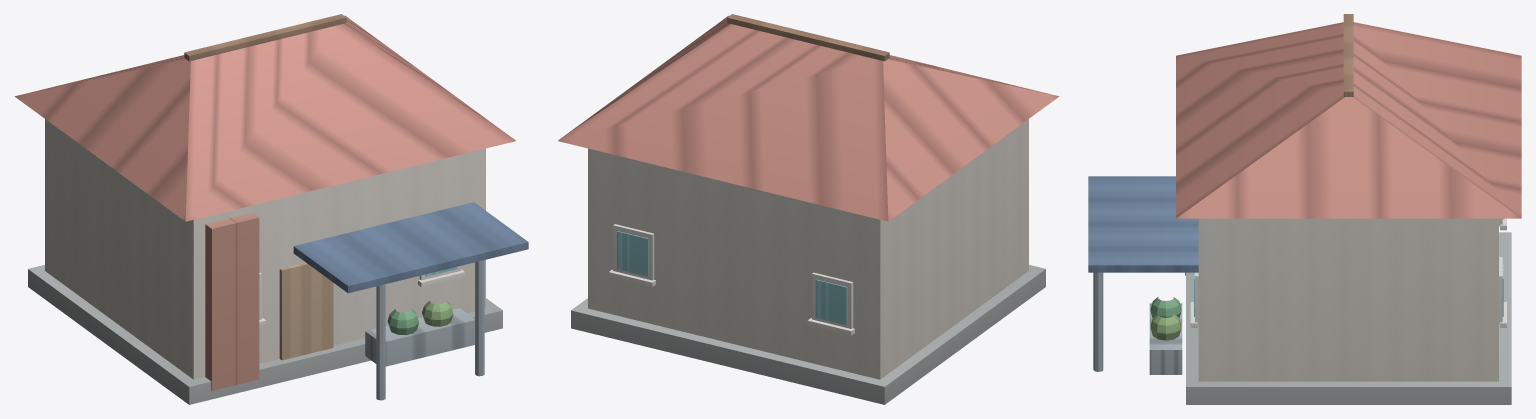
The model's file is terrace_home.glb.
3 renders of one model, left to right at view 1: azimuth 30°, elevation 25°; view 2: azimuth 150°, elevation 25°; view 3: azimuth 270°, elevation 25°, orthographic.
Parts seen in each view (by area): view 1: terrace_home; view 2: terrace_home; view 3: terrace_home.
Part boxes in pixels (box(x1,y1,x2,y2)): terrace_home: box(14, 14, 528, 404); terrace_home: box(558, 14, 1059, 404); terrace_home: box(1088, 14, 1521, 404).
Bounding box in the file's own units: 7.7 × 6.06 × 8.65.
1 material, 1 textured.
